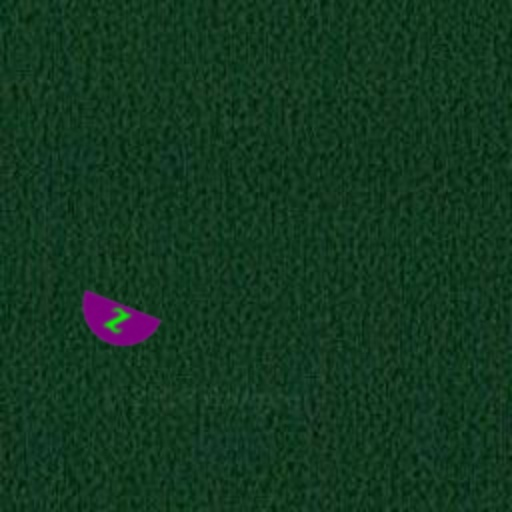semicircle: (62, 270, 170, 378)
